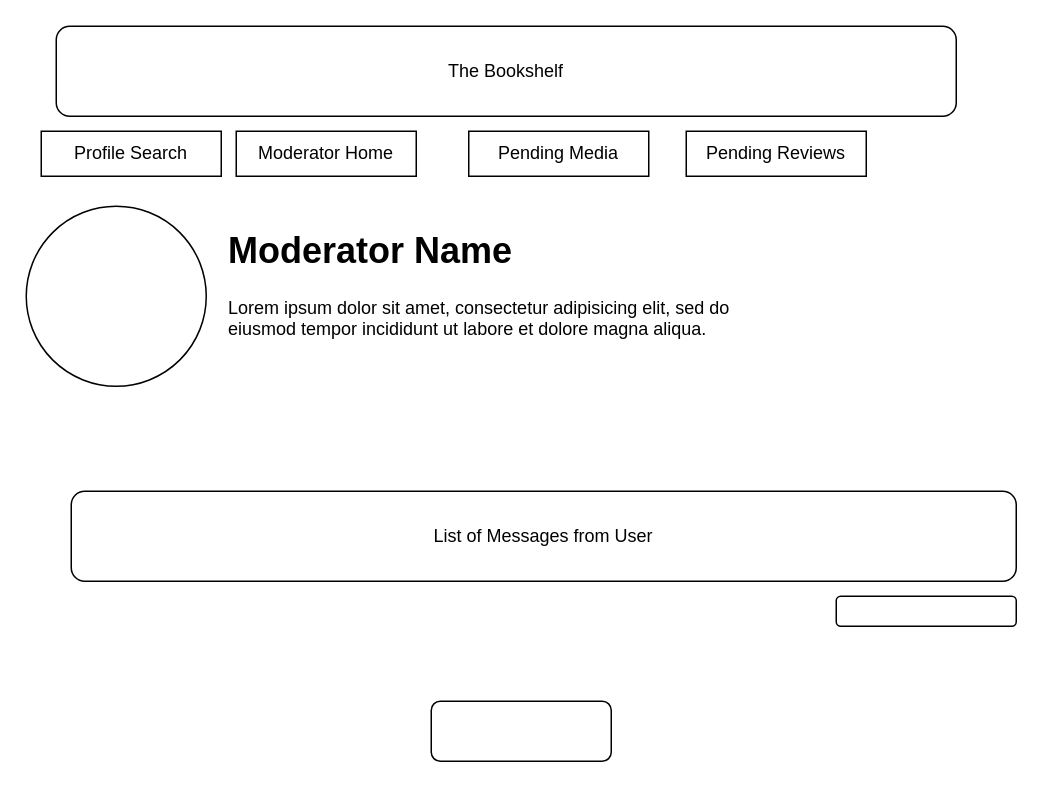
The diagram is 1043 pixels wide and 788 high, and some of its shapes have lost their labels. Each missing label, with the centre of its shape:
"Logout" goes at pixel 520 730.
"Message" goes at pixel 925 610.
